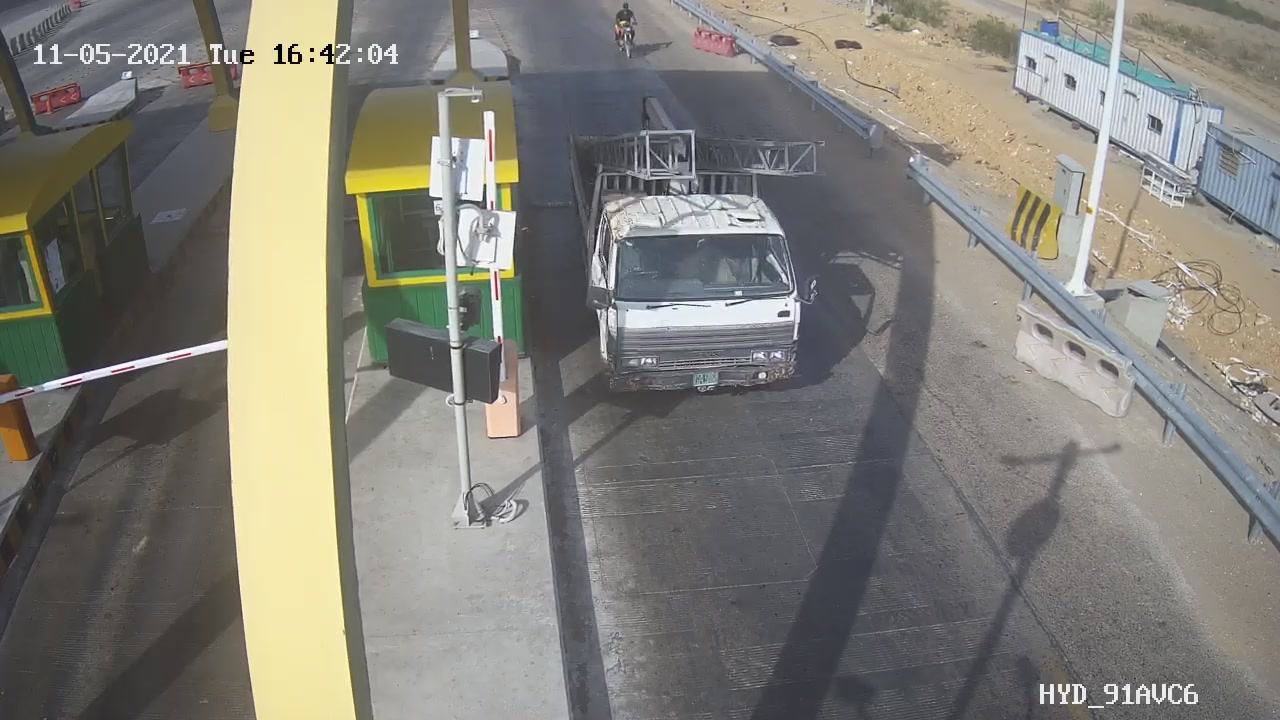F3: (548, 85, 843, 425)
